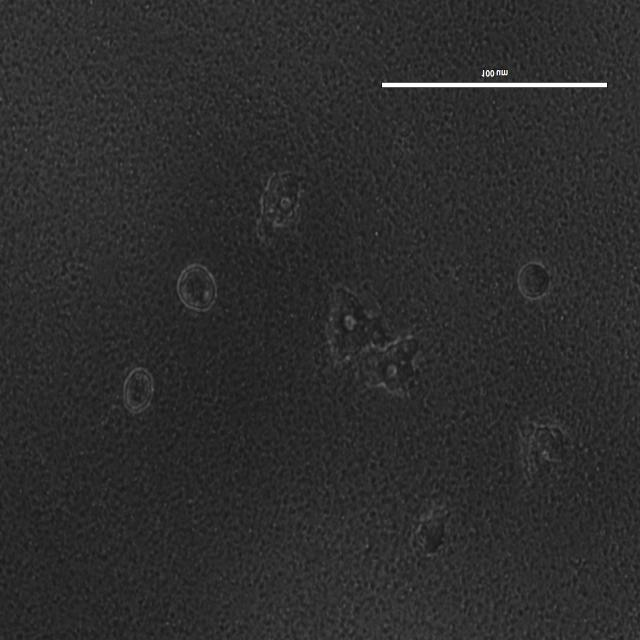Amoeba: (320, 284, 386, 364), (519, 422, 570, 488), (366, 333, 420, 393), (256, 170, 304, 237), (176, 261, 218, 316), (413, 504, 452, 556), (516, 258, 552, 302), (125, 368, 155, 415)
